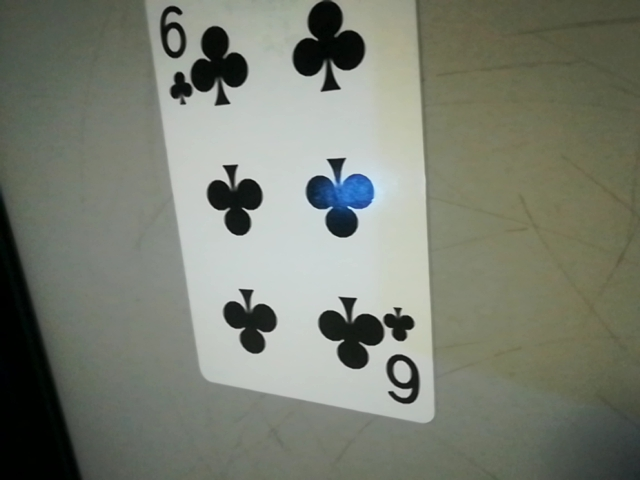mh 6: (376, 303, 434, 415)
